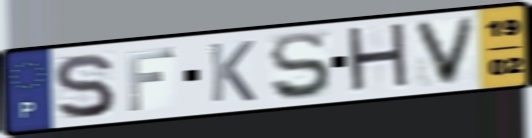F: (123, 45, 178, 113)
H: (343, 20, 413, 97)
K: (206, 38, 259, 105)
S: (267, 29, 335, 102), (50, 51, 118, 122)
V: (409, 14, 481, 88)
